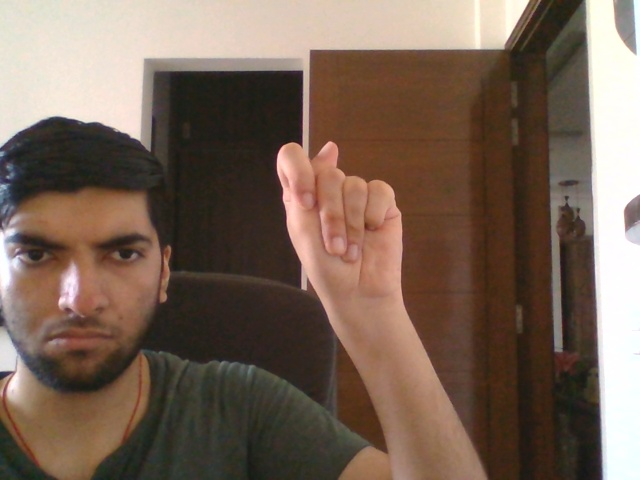LetterT: (275, 139, 407, 299)
